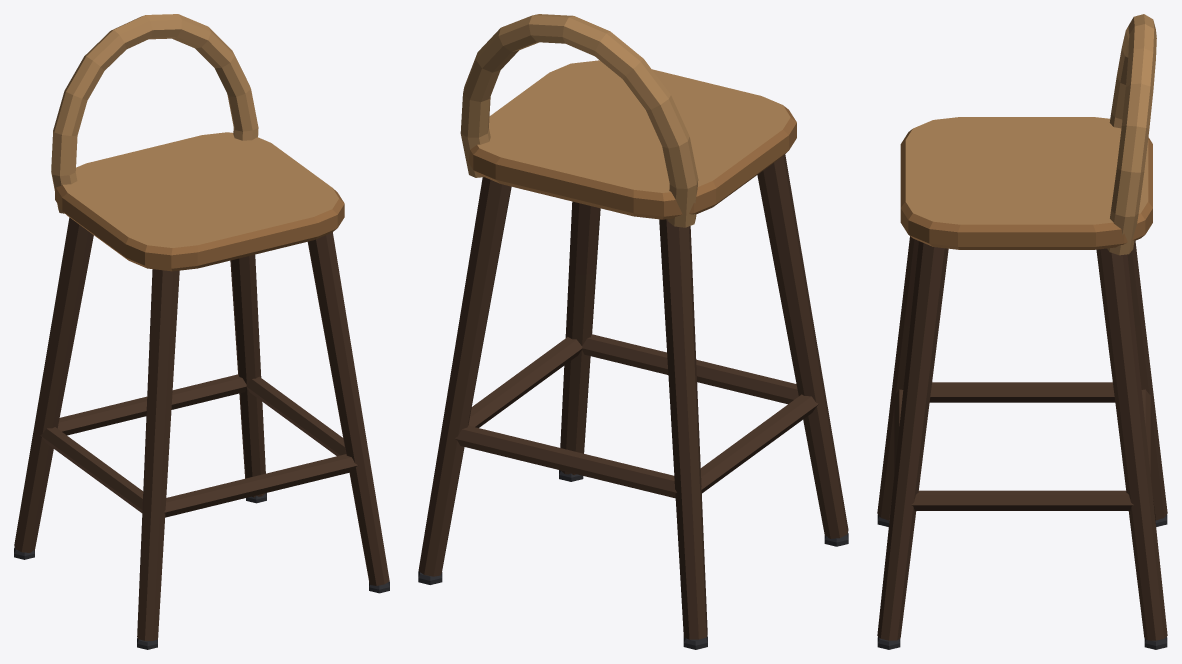
Rendered from FN_Stool_Counter.obj.
3 renders of one model, left to right at view 1: azimuth 30°, elevation 25°; view 2: azimuth 150°, elevation 25°; view 3: azimuth 270°, elevation 25°, orthographic. The views are drawn at different scales.
Parts seen in each view (by area): view 1: FN_Stool_Counter; view 2: FN_Stool_Counter; view 3: FN_Stool_Counter.
Part boxes in pixels (left/top/right/bottom): FN_Stool_Counter: left=14, top=14, right=389, bottom=649; FN_Stool_Counter: left=418, top=14, right=848, bottom=649; FN_Stool_Counter: left=877, top=14, right=1167, bottom=649.
Size of the model in its own units: 0.432 by 0.8408 by 0.3958.
Materials: 1 (1 with a texture image).
